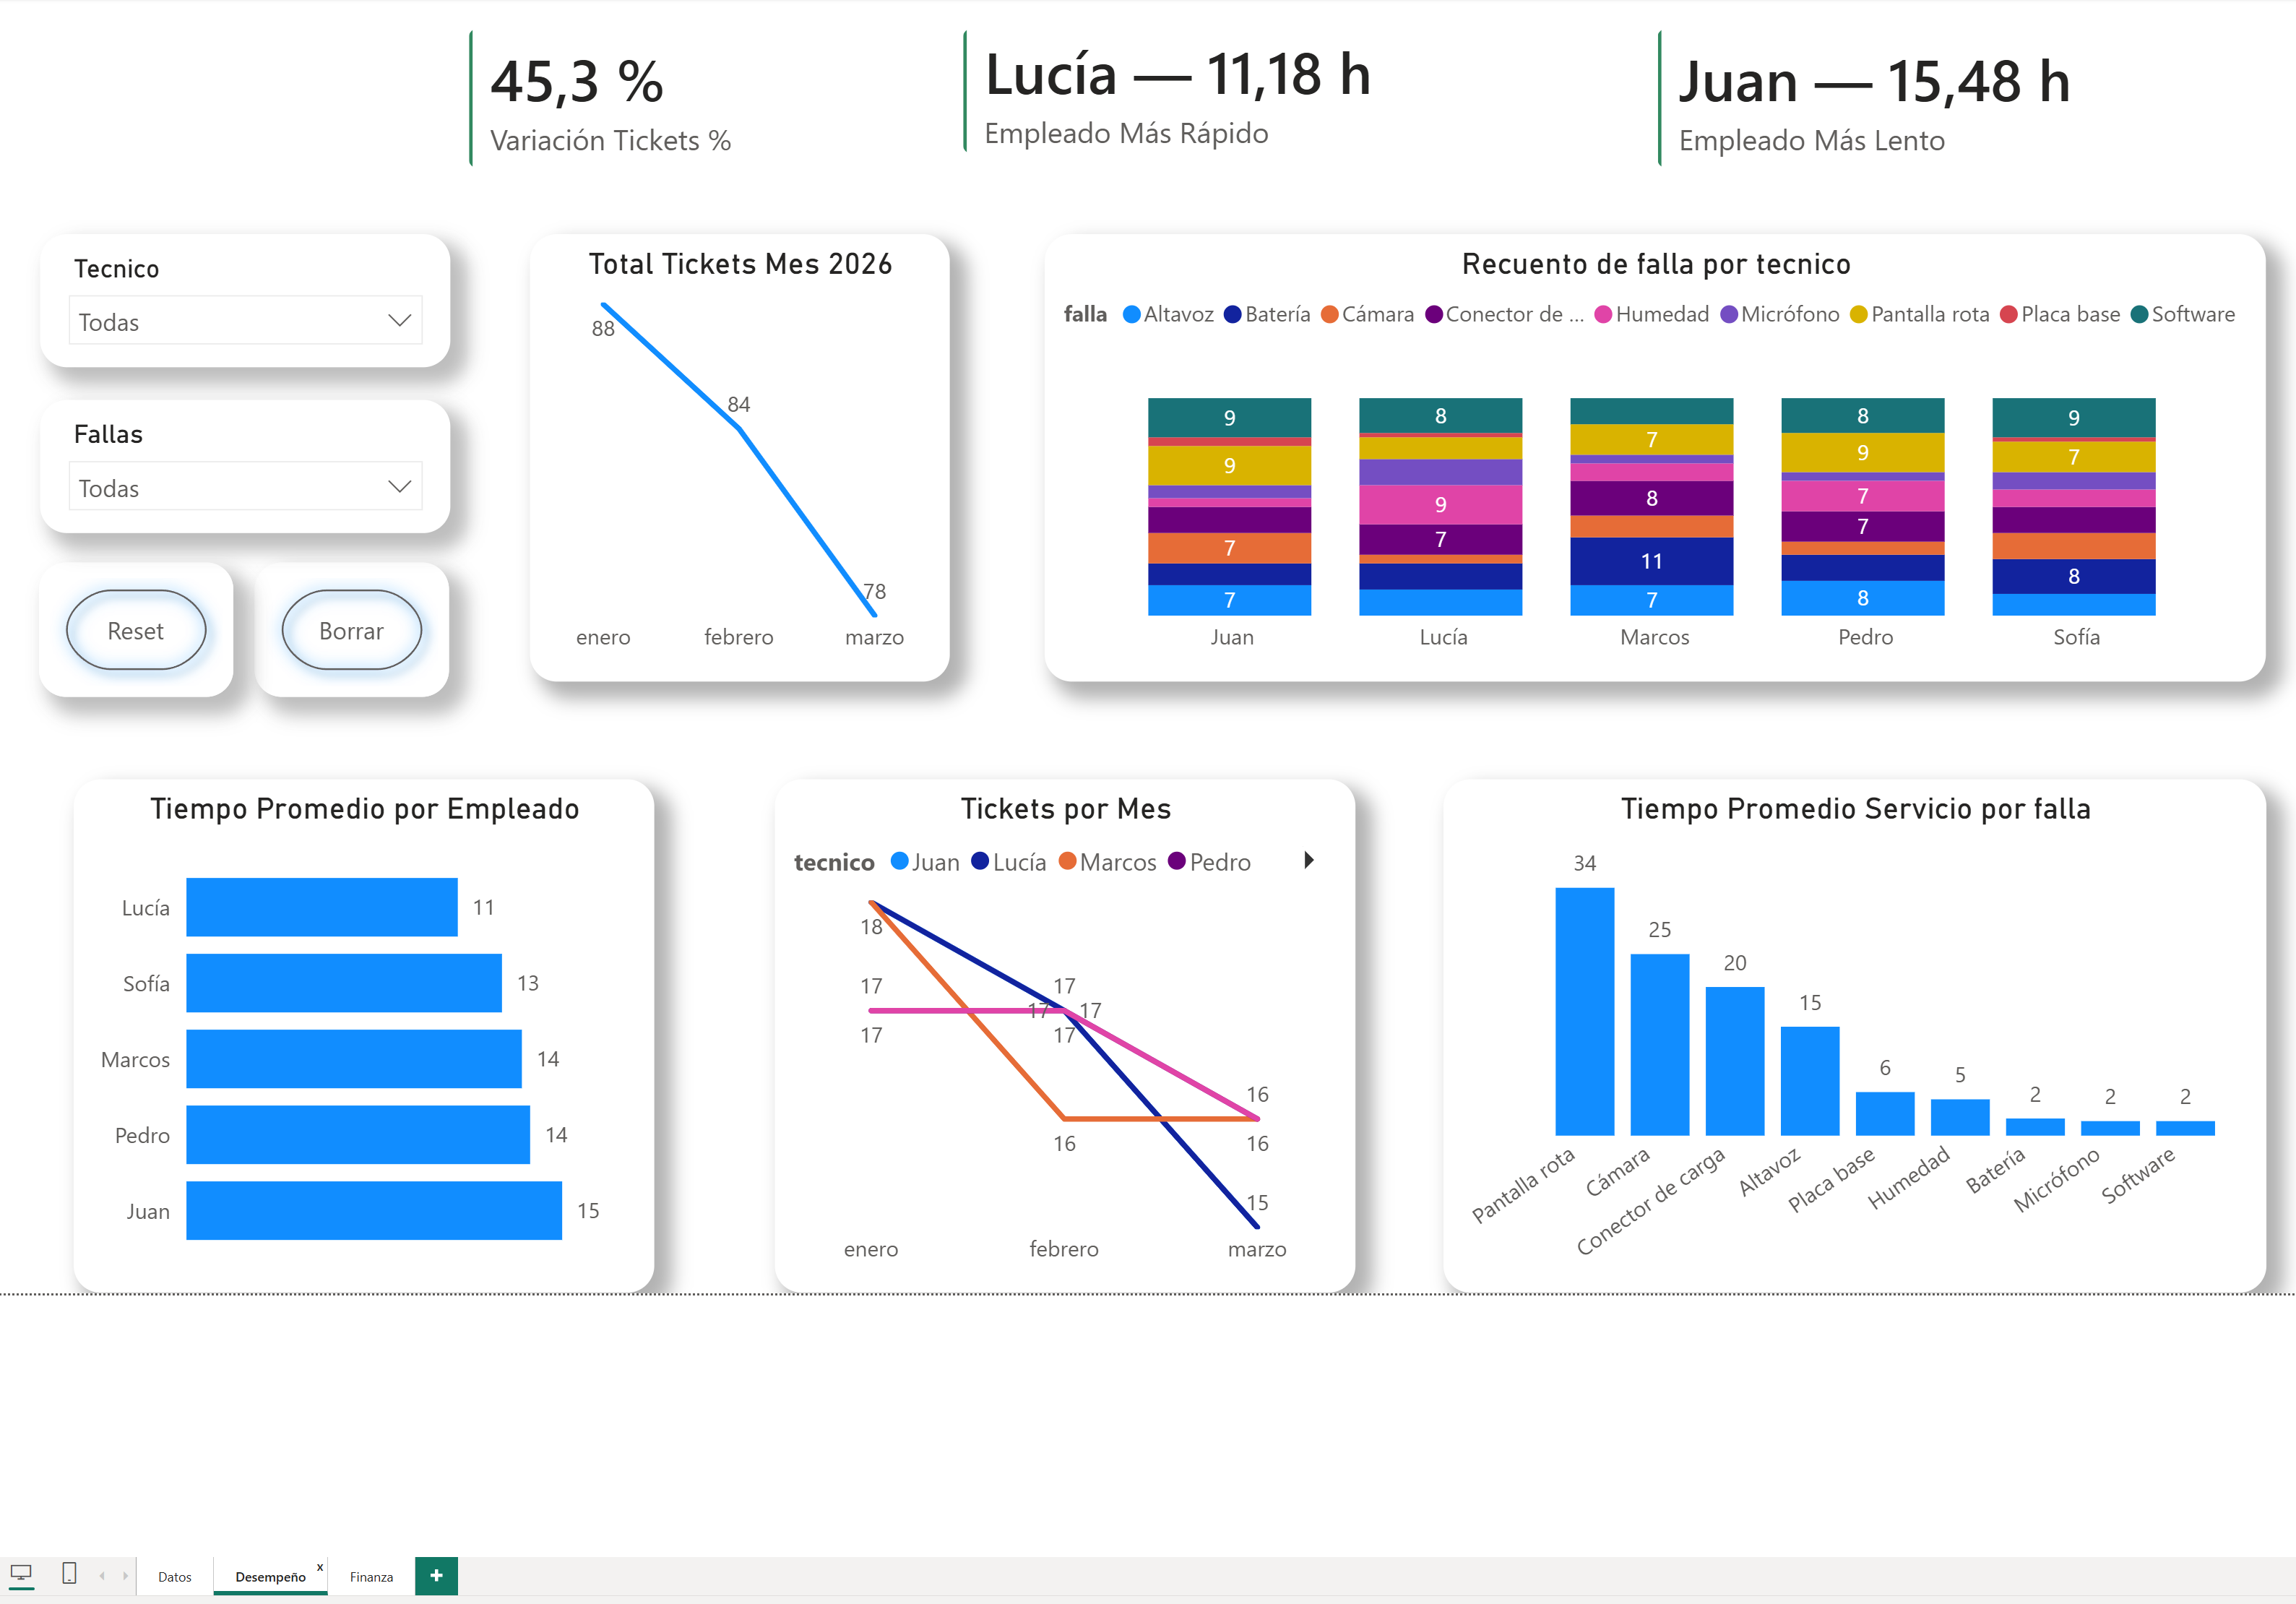

The dashboard page shown, as its layout file describes it:
{"tool":"powerbi","page":{"name":"Desempeño","canvas":[1280,720],"ordinal":1},"visuals":[{"type":"cardVisual","fields":{"Data":["Medidas.Variación Tickets %"]},"box":[244.3,0,200.8,111.8],"z":0},{"type":"lineChart","title":"Total Tickets Mes 2026","fields":{"Y":["Medidas.Total Tickets Base"],"Category":["Calendario.Mes"]},"box":[295.6,131.4,233.1,248.4],"z":1000},{"type":"clusteredBarChart","title":"Tiempo Promedio por Empleado","fields":{"Category":["tickets_reparacion.tecnico"],"Y":["Medidas.Tiempo Promedio por Empleado"]},"box":[42.1,434.3,322.4,285.4],"z":2000},{"type":"cardVisual","fields":{"Data":["Medidas.Empleado Más Rápido"]},"box":[519.2,0,311.9,104],"z":3000},{"type":"cardVisual","fields":{"Data":["Medidas.Empleado Más Lento"]},"box":[905.2,0,316.9,111.8],"z":4000},{"type":"columnChart","title":"Tiempo Promedio Servicio por falla","fields":{"Y":["Medidas.Tiempo Promedio por Servicio"],"Category":["tickets_reparacion.falla"]},"box":[803.2,434.3,457.5,285.4],"z":5000},{"type":"lineChart","title":"Tickets por Mes","fields":{"Y":["Medidas.Tickets por Empleado por Mes"],"Series":["tickets_reparacion.tecnico"],"Category":["Calendario.Mes"]},"box":[432.1,434.3,322.4,285.4],"z":6000},{"type":"actionButton","box":[142.8,314,108.2,74.8],"z":7000},{"type":"actionButton","box":[23,314,108.2,74.8],"z":8000},{"type":"slicer","fields":{"Values":["tickets_reparacion.tecnico"]},"box":[23.2,131.4,228,74.1],"z":9000},{"type":"slicer","fields":{"Values":["tickets_reparacion.falla"]},"box":[23.2,223.7,228,74.1],"z":10000},{"type":"columnChart","title":"Recuento de falla por tecnico","fields":{"Y":["CountNonNull(tickets_reparacion.falla)"],"Category":["tickets_reparacion.tecnico"],"Series":["tickets_reparacion.falla"]},"box":[581.7,131.4,679,248.4],"z":11000}]}

Visuals, with their boxes on the page's 1280x720 design canvas (x1, y1, x2, y2). These are canvas units, not pixel positions in the 2296x1604 screenshot, which may show the page scaled, cropped or inside an application window:
cardVisual - Medidas.Variación Tickets %: (left=244, top=0, right=445, bottom=112)
"Total Tickets Mes 2026" lineChart: (left=296, top=131, right=529, bottom=380)
"Tiempo Promedio por Empleado" clusteredBarChart: (left=42, top=434, right=364, bottom=720)
cardVisual - Medidas.Empleado Más Rápido: (left=519, top=0, right=831, bottom=104)
cardVisual - Medidas.Empleado Más Lento: (left=905, top=0, right=1222, bottom=112)
"Tiempo Promedio Servicio por falla" columnChart: (left=803, top=434, right=1261, bottom=720)
"Tickets por Mes" lineChart: (left=432, top=434, right=754, bottom=720)
actionButton: (left=143, top=314, right=251, bottom=389)
actionButton: (left=23, top=314, right=131, bottom=389)
slicer - tickets_reparacion.tecnico: (left=23, top=131, right=251, bottom=206)
slicer - tickets_reparacion.falla: (left=23, top=224, right=251, bottom=298)
"Recuento de falla por tecnico" columnChart: (left=582, top=131, right=1261, bottom=380)
